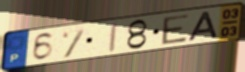6: (31, 31, 55, 62)
7: (60, 26, 87, 60)
8: (126, 18, 149, 50)
A: (186, 10, 220, 43)
E: (161, 13, 191, 46)
I: (108, 21, 119, 54)
